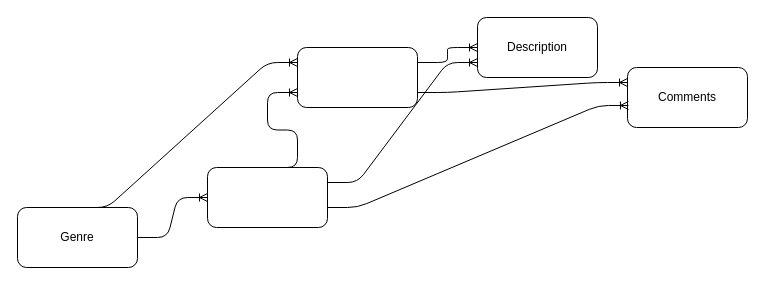
Image size: 765x285. Some labels were removed from this diagram. The shapes that lost their labels are listed below. From the top down, each one's centre as x and y in pixels, then its label:
At (357,77): "Song".
At (267,197): "Artists".
